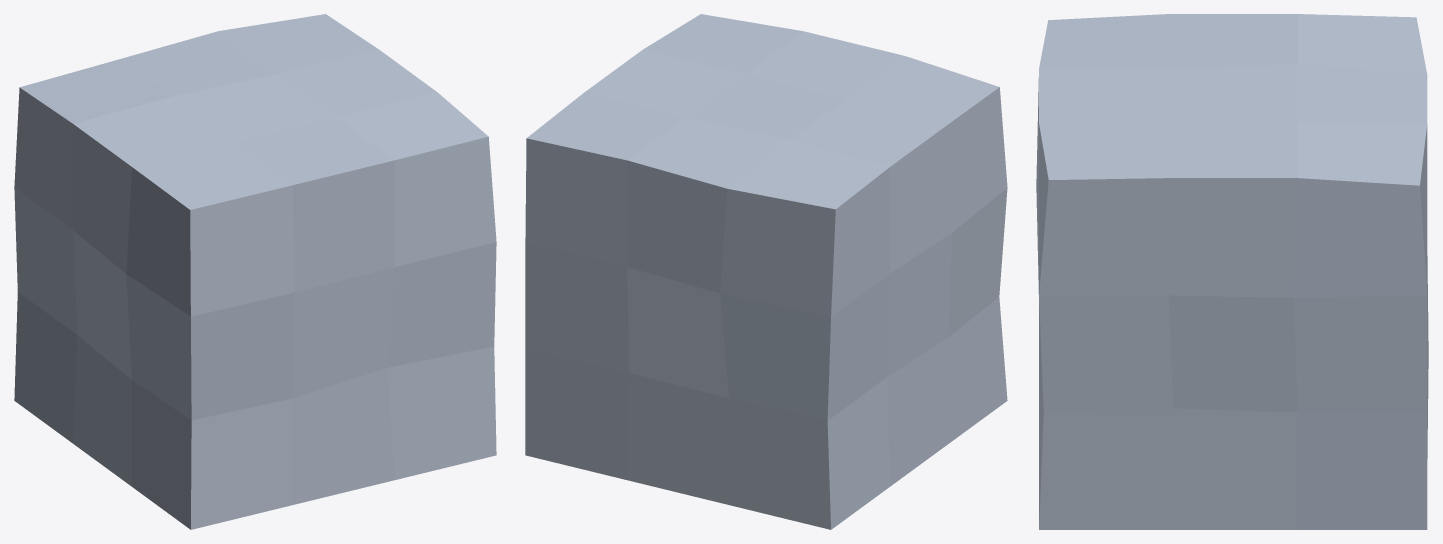
File: build_small.fbx
3 renders of one model, left to right at view 1: azimuth 30°, elevation 25°; view 2: azimuth 150°, elevation 25°; view 3: azimuth 270°, elevation 25°, orthographic. The views are drawn at different scales.
Visible parts, largest first — view 1: Cube.003; view 2: Cube.003; view 3: Cube.003.
Boxes of the visible parts, box(x1,y1,x2,y2) form: Cube.003: box(14, 14, 496, 529); Cube.003: box(525, 14, 1007, 529); Cube.003: box(1036, 14, 1428, 529).
Size of the model in its own units: 2062 by 2020 by 2021.
